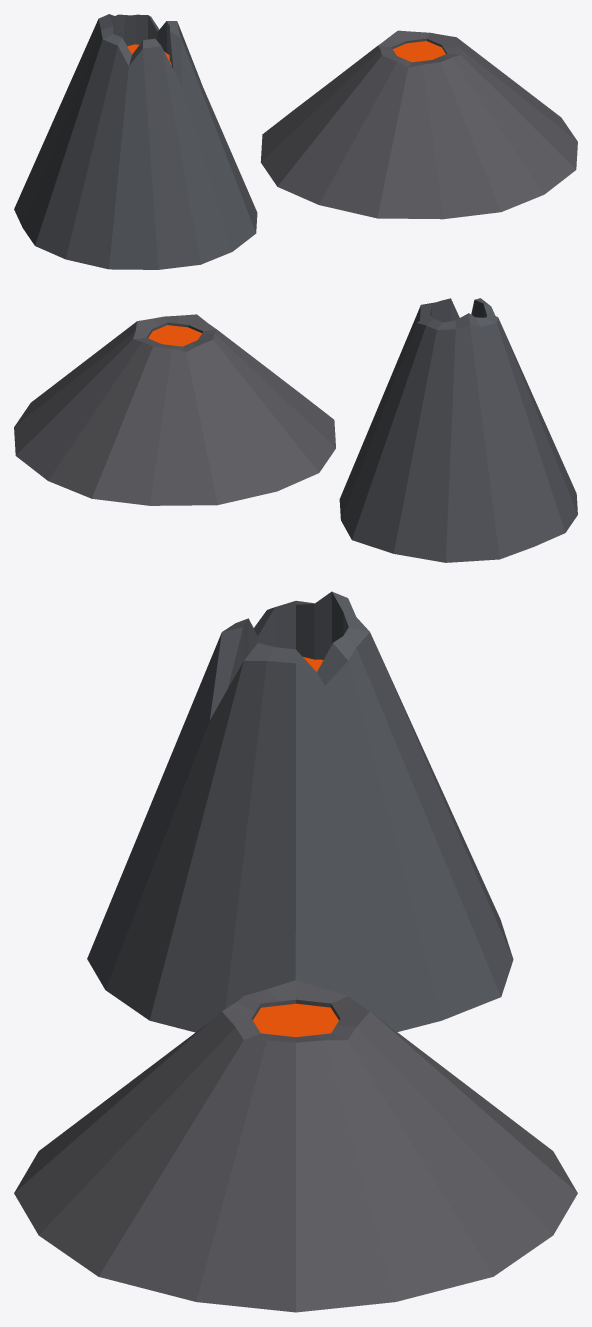
File: vulcaoV1.2.fbx
The picture shows the model from 3 angles, top to bottom: view 1: azimuth 30°, elevation 25°; view 2: azimuth 150°, elevation 25°; view 3: azimuth 270°, elevation 25°; orthographic projection. The views are drawn at different scales.
Visible parts, largest first — view 1: Cube.001, Cube, Cube.003; view 2: Cube.001, Cube, Cube.003; view 3: Cube, Cube.001, Cube.003.
Boxes of the visible parts, x1,y1,x2,y2 form: Cube.001: [14, 14, 257, 269]; Cube: [260, 30, 577, 219]; Cube.003: [393, 41, 445, 62]; Cube.001: [339, 298, 577, 562]; Cube: [14, 314, 335, 505]; Cube.003: [148, 325, 201, 346]; Cube: [14, 980, 577, 1312]; Cube.001: [87, 591, 513, 1032]; Cube.003: [253, 1003, 338, 1037].
Bounding box in the file's own units: 2165 × 801 × 1168.
4 materials, 4 textured.
